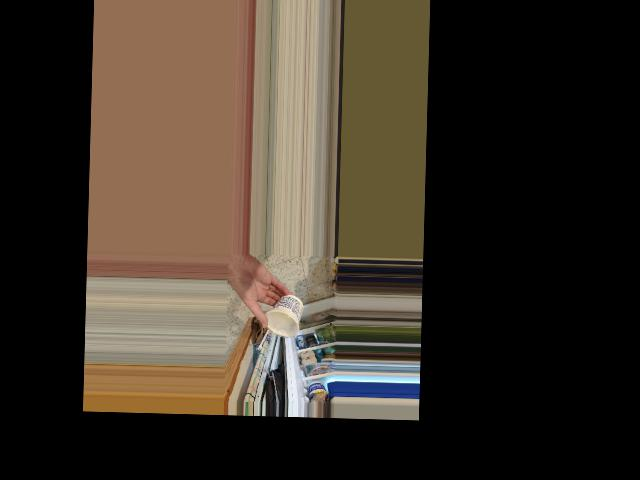cotage: (266, 292, 300, 337)
